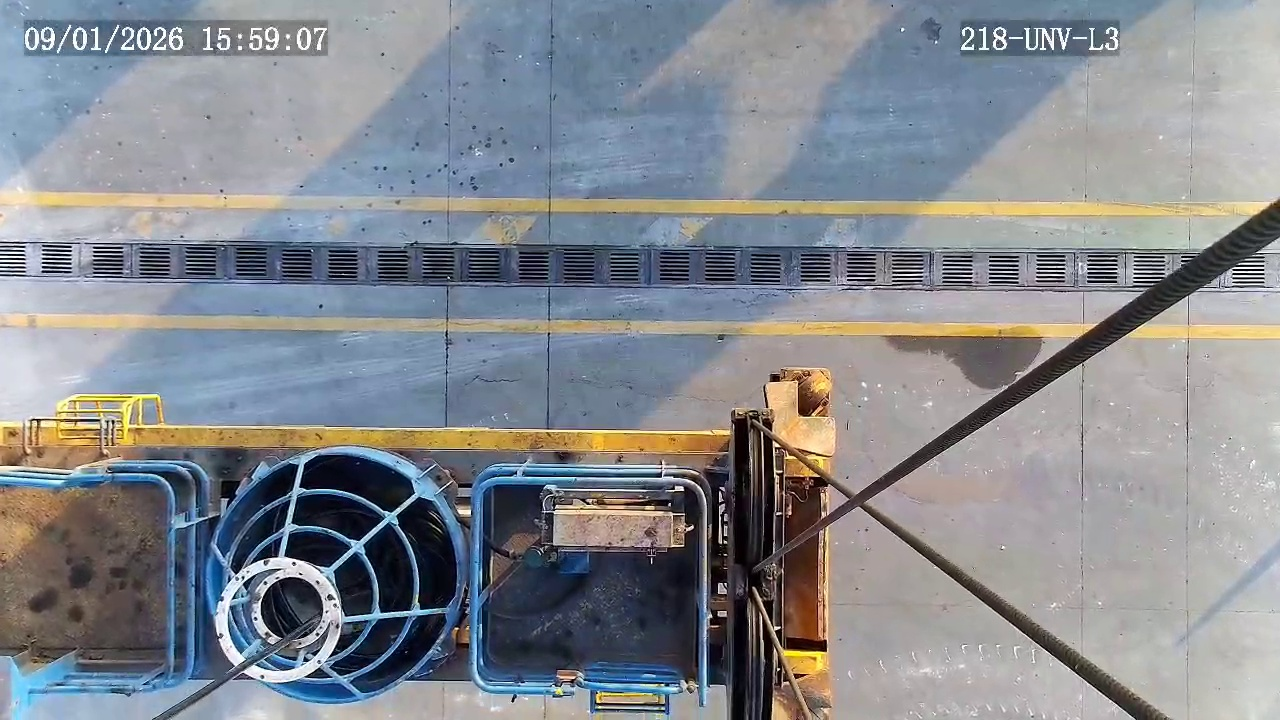right: (206, 451, 461, 703)
